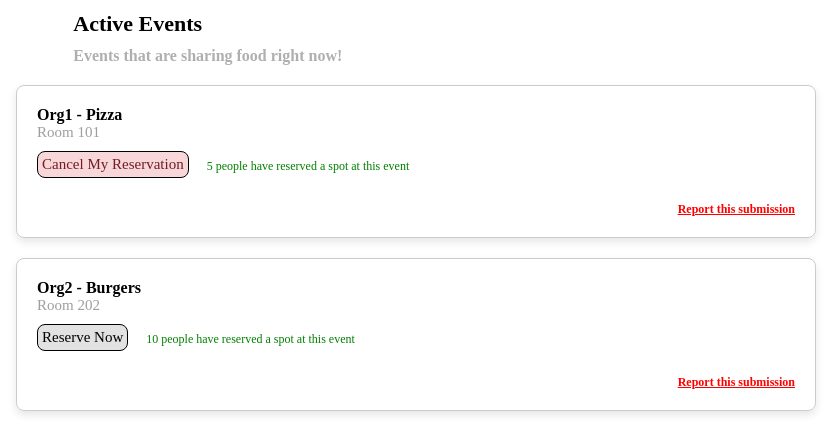
EventDisplay Component › handles reservation toggling
The image size is (833, 428).
Note: Simulate a click to toggle the reservation
Click the button with test id "reserve-1" at (113, 164), box [37, 151, 189, 178]
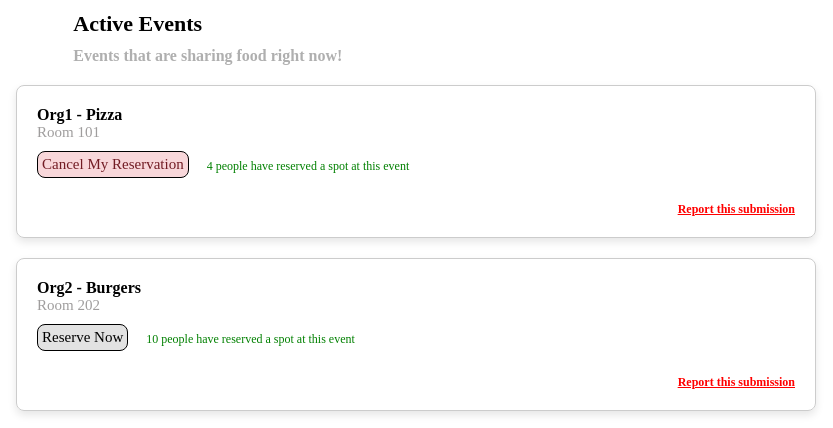
Expected: the text with test id "headcount-status-1" reads "4 people have reserved a spot at this event", [207, 159, 409, 173]
